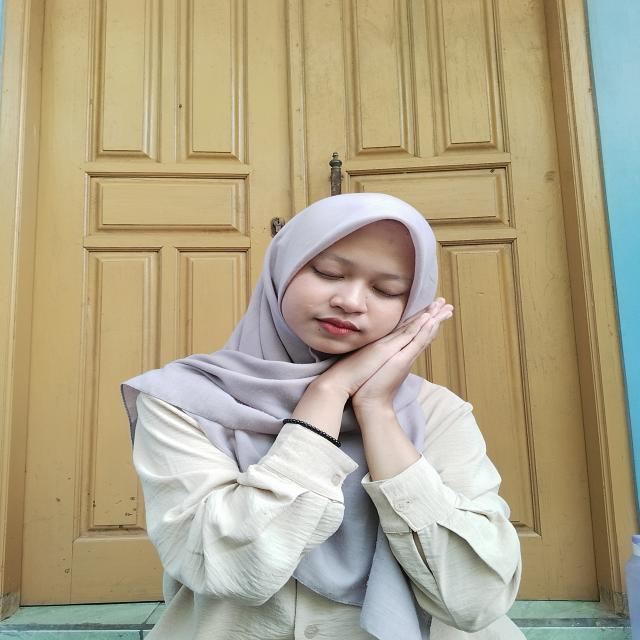tidur: (273, 294, 458, 482)
